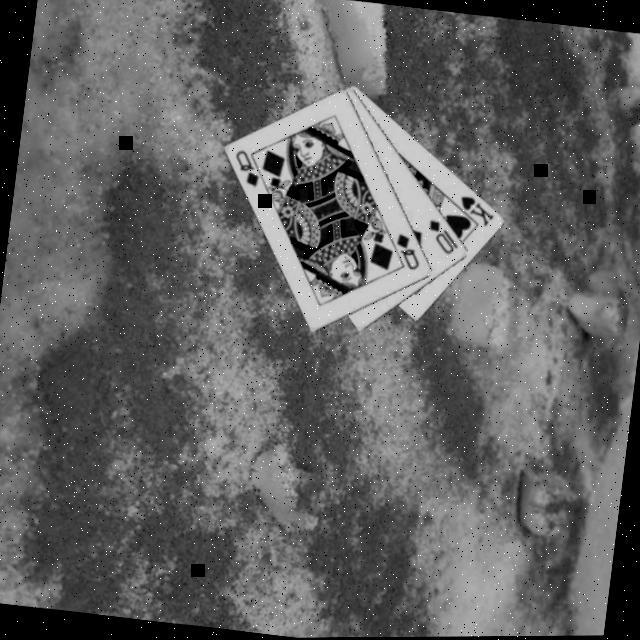10D: (426, 214, 466, 256)
KH: (456, 190, 501, 229)
QD: (231, 144, 268, 189), (392, 229, 428, 272)
